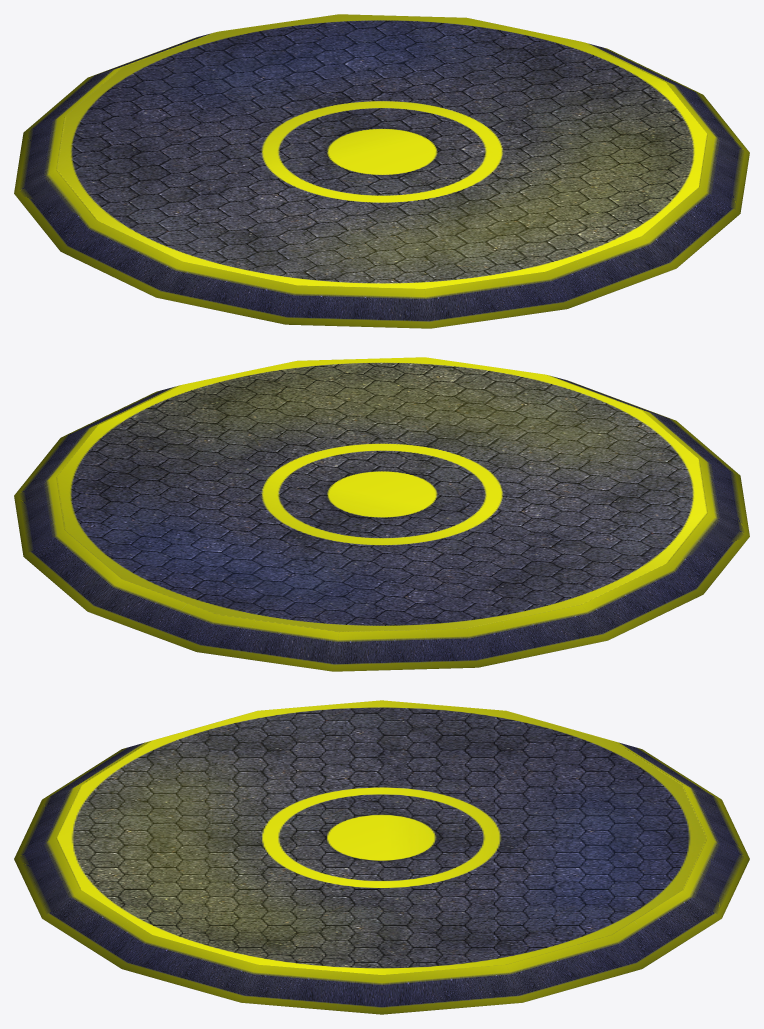
The picture shows the model from 3 angles, top to bottom: view 1: azimuth 30°, elevation 25°; view 2: azimuth 150°, elevation 25°; view 3: azimuth 270°, elevation 25°; orthographic projection.
Parts seen in each view (by area): view 1: Byk_Stand; view 2: Byk_Stand; view 3: Byk_Stand.
Boxes of the visible parts, left/top/right/bottom form: Byk_Stand: left=14, top=14, right=749, bottom=328; Byk_Stand: left=14, top=357, right=749, bottom=671; Byk_Stand: left=14, top=700, right=749, bottom=1014.
Bounding box in the file's own units: 37.45 × 1.2 × 37.45.
1 material, 1 textured.
